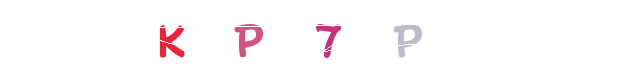7: (276, 0, 356, 80)
K: (129, 0, 209, 80)
P: (235, 0, 315, 80), (336, 0, 416, 80)
